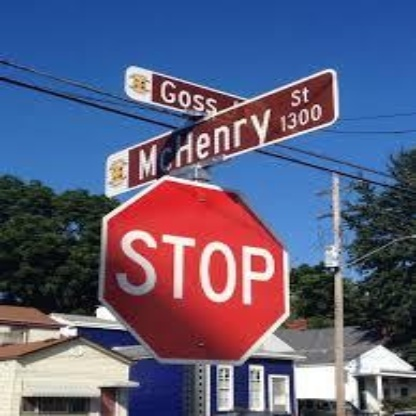stop: (102, 175, 291, 360)
